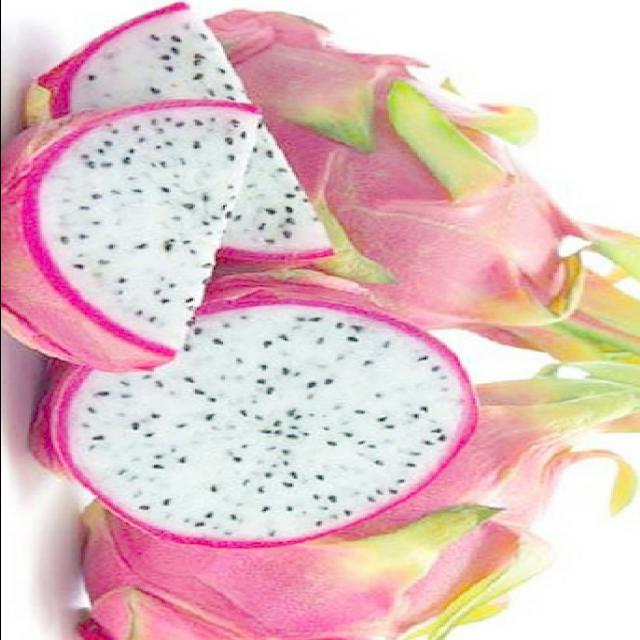trang: (69, 349, 640, 639), (176, 5, 640, 359), (38, 272, 470, 552), (23, 0, 340, 264), (2, 102, 262, 372)
